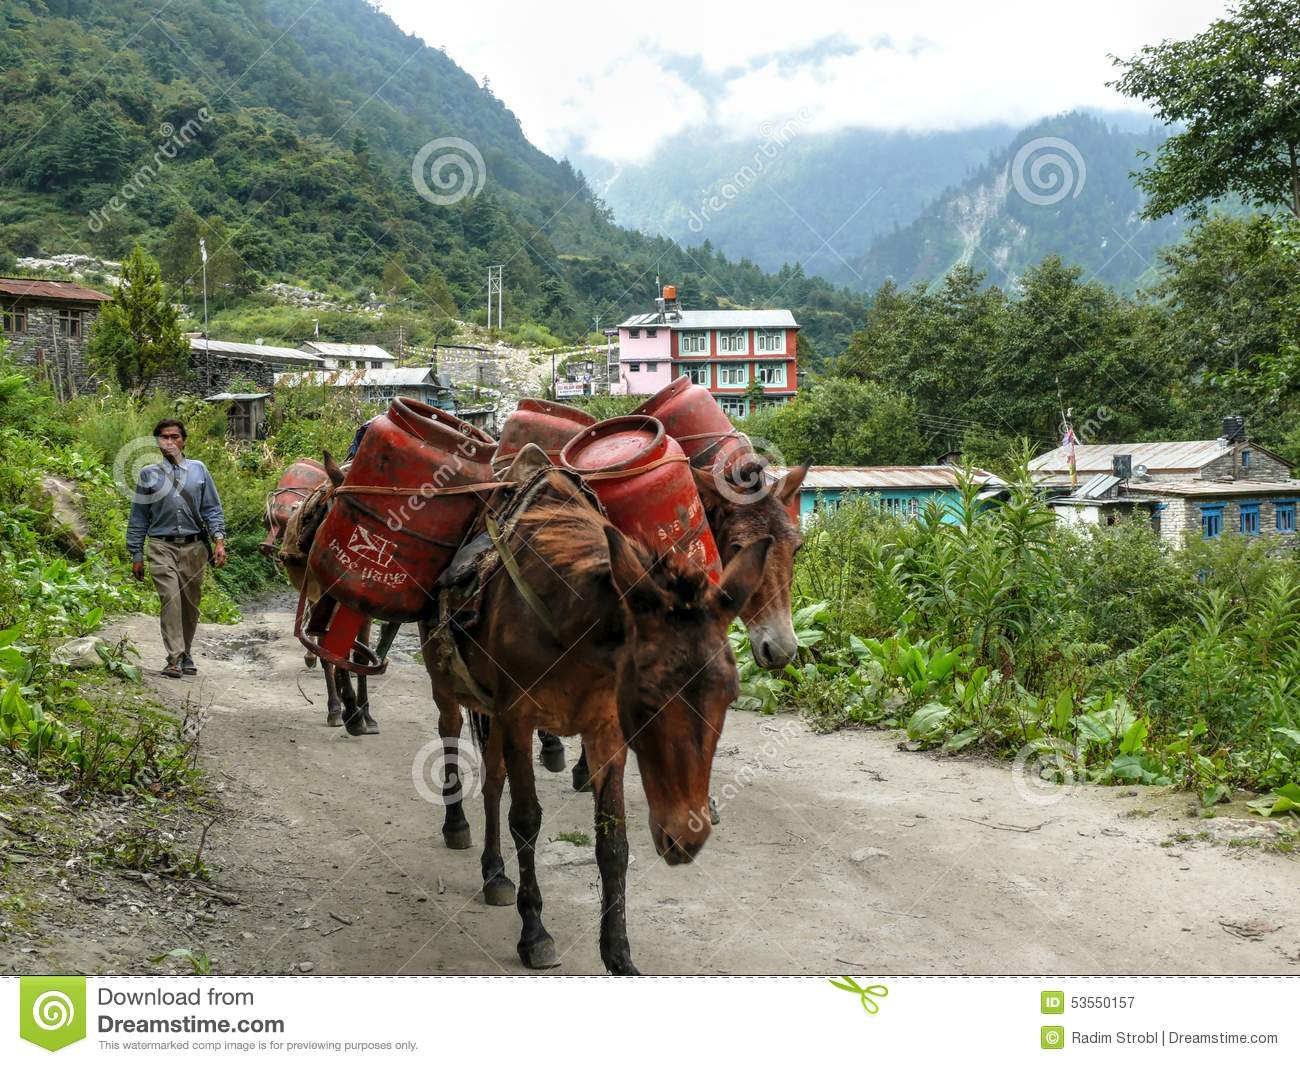equine: (345, 448, 819, 984), (451, 408, 842, 772)
human: (104, 404, 254, 687)
